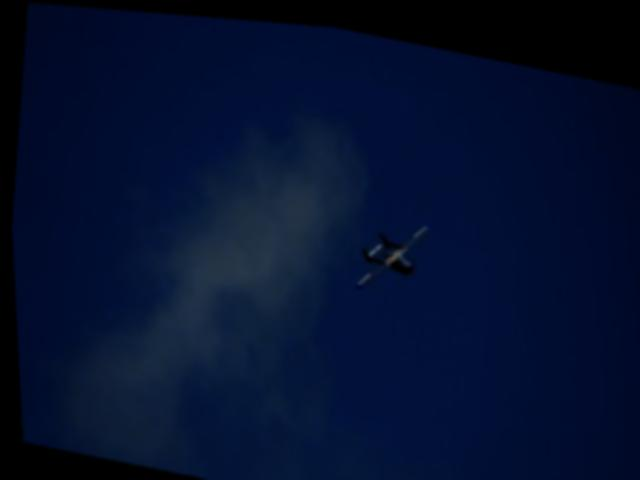uav: (343, 202, 432, 297)
